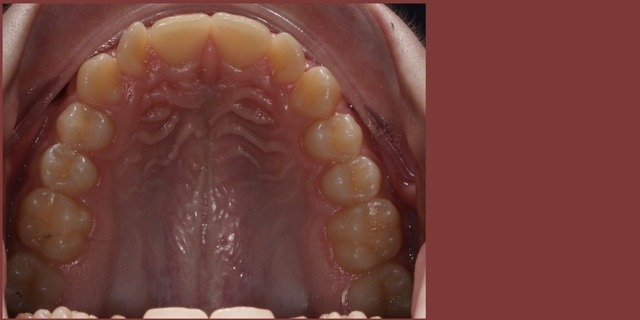UL1BC_healthy: (304, 115, 365, 160)
UL1M_healthy: (334, 203, 400, 268)
UL2BC_healthy: (322, 164, 383, 201)
UL2M_healthy: (352, 271, 411, 313)
ULCI_healthy: (211, 14, 273, 73)
ULC_healthy: (294, 69, 342, 118)
ULLI_healthy: (269, 37, 307, 84)
UR1BC_healthy: (59, 106, 120, 152)
UR1M_healthy: (24, 195, 94, 260)
UR2BC_healthy: (37, 151, 103, 195)
UR2M_healthy: (8, 259, 63, 306)
URCI_healthy: (147, 12, 212, 66)
URC_healthy: (74, 55, 126, 103)
URLI_healthy: (116, 25, 155, 74)
